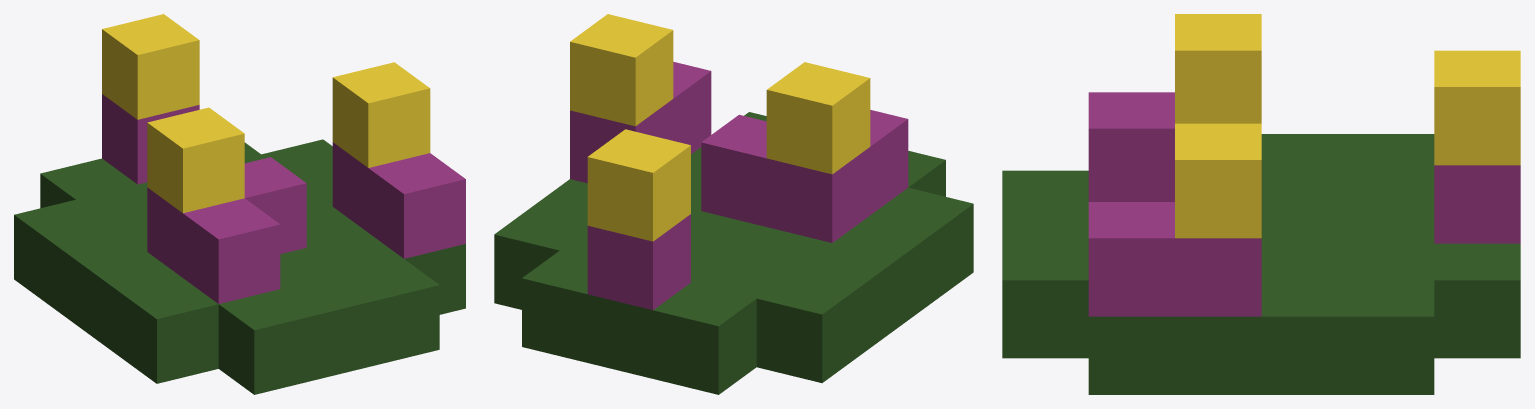
File: Mini-Oasis-Del-Desierto-2.obj
3 renders of one model, left to right at view 1: azimuth 30°, elevation 25°; view 2: azimuth 150°, elevation 25°; view 3: azimuth 270°, elevation 25°, orthographic. The views are drawn at different scales.
Size of the model in its own units: 0.5 by 0.3 by 0.6.
1 material, 1 textured.
